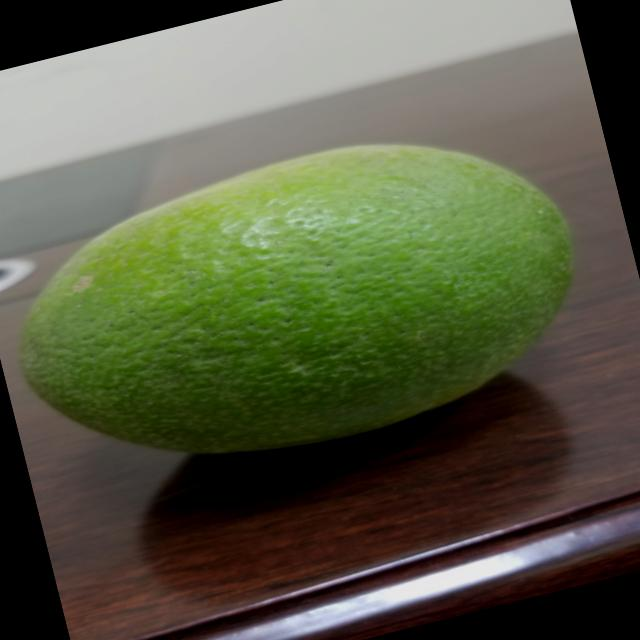Ripe orange: (0, 90, 630, 522)
